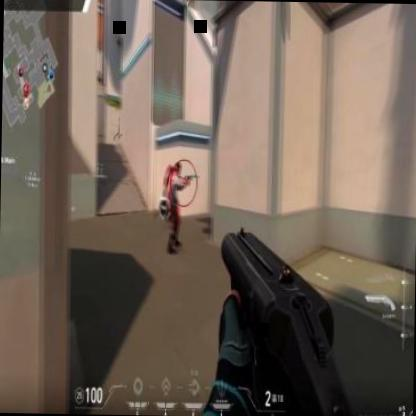enemy: (162, 156, 184, 256)
enemy_head: (173, 161, 180, 175)
